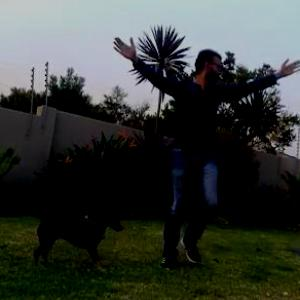takeoff: (112, 36, 296, 271)
